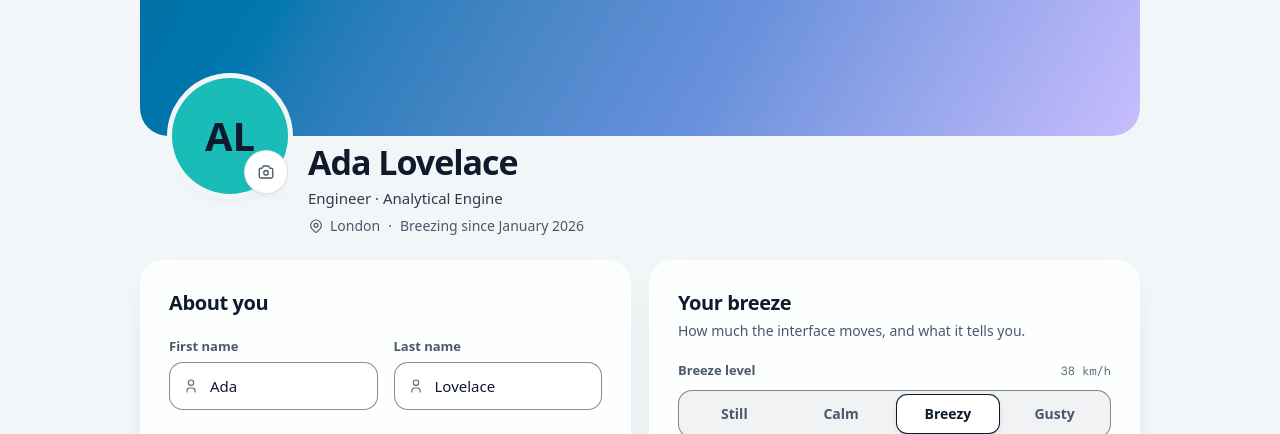
Test case: Profile editing › puts every field back to what is stored, including the joined date
The image size is (1280, 434).
Replace the text in the field with placeholder "Enter first name" with "Augusta" at (273, 386), box [169,362,378,410]
(page scrolled)
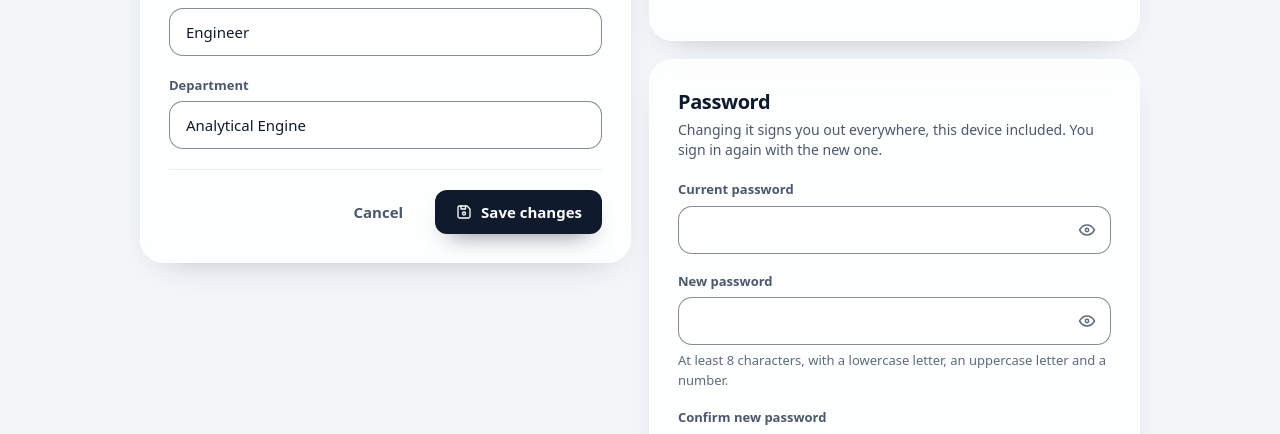
Click the button "Cancel".
click(378, 212)  # box [334,190,423,234]
(page scrolled)
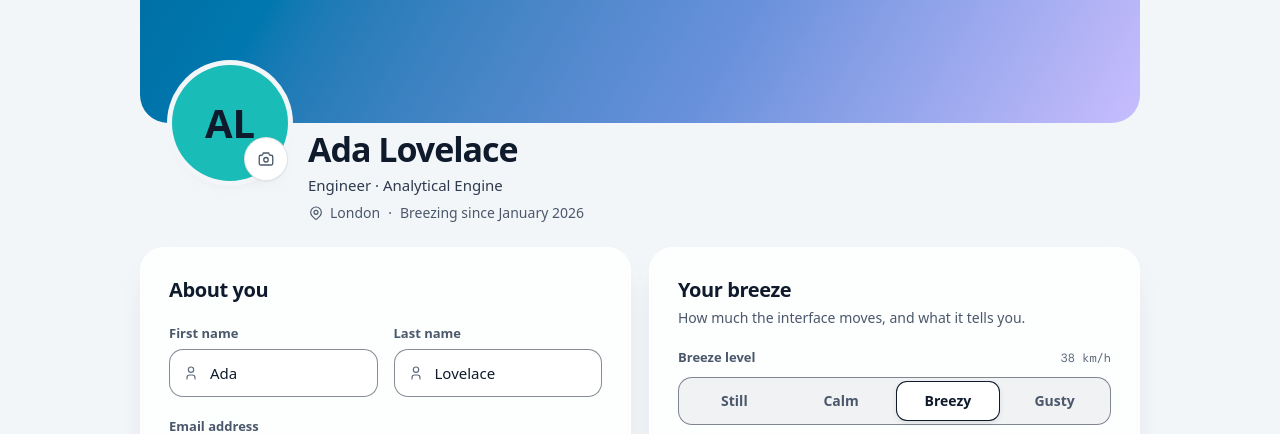
Check: the text "Breezing since January 2026" is shown, box [400,203,584,223]
Check: the field with placeholder "Enter first name" holds "Ada", box [169,349,378,397]
